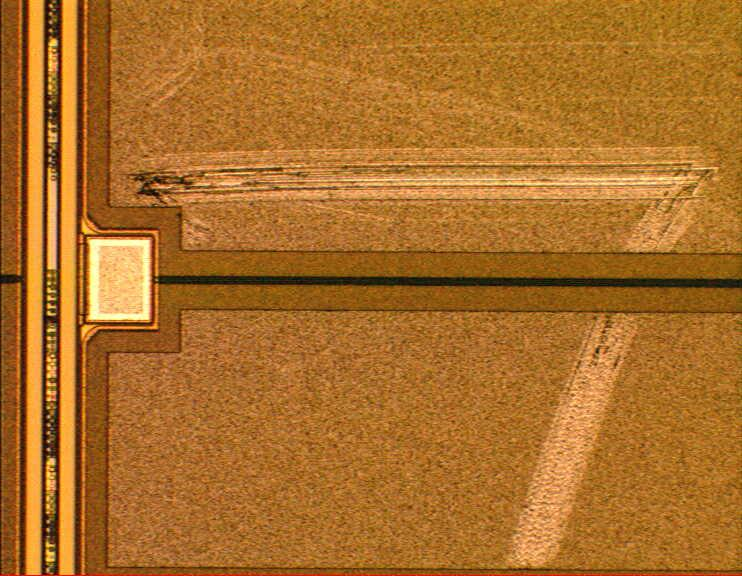SCRATCH: (117, 11, 729, 571)
